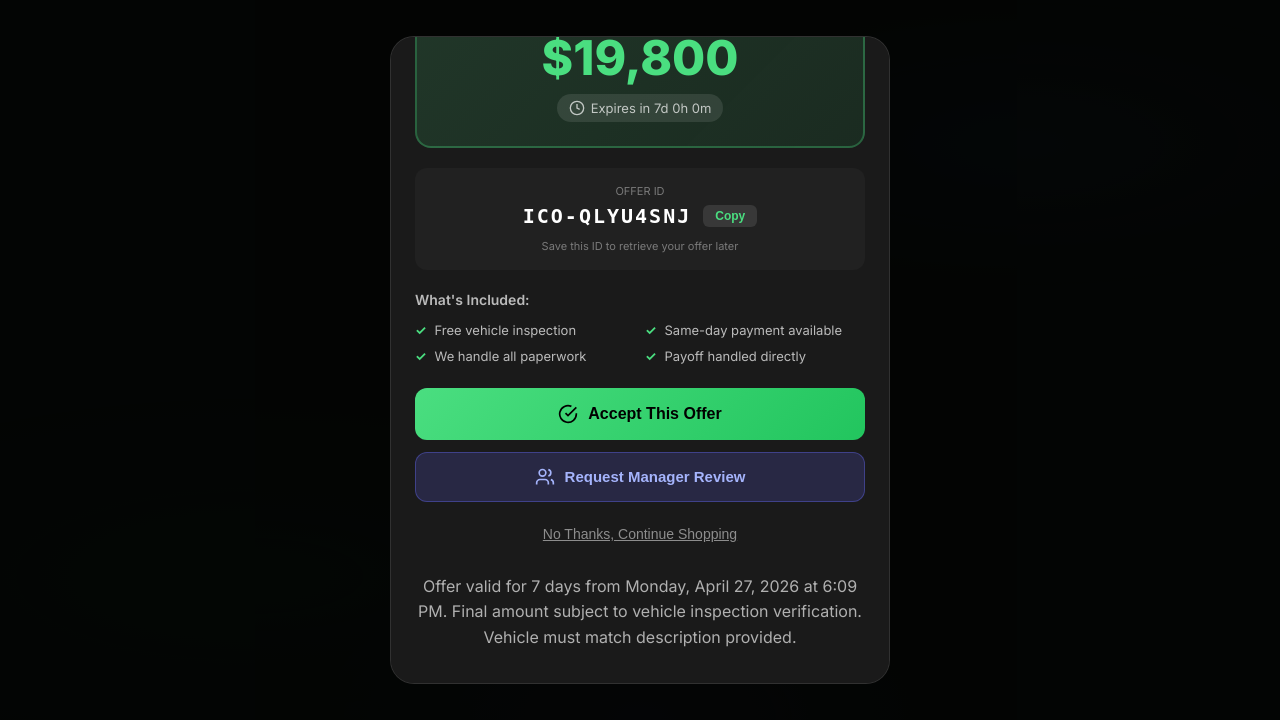
Test case: InstantCashOffer Component › Accept Flow › contact form pre-fills customer name
(page scrolled)
Click the button "Accept This Offer": (640, 414) [415,388,865,440]
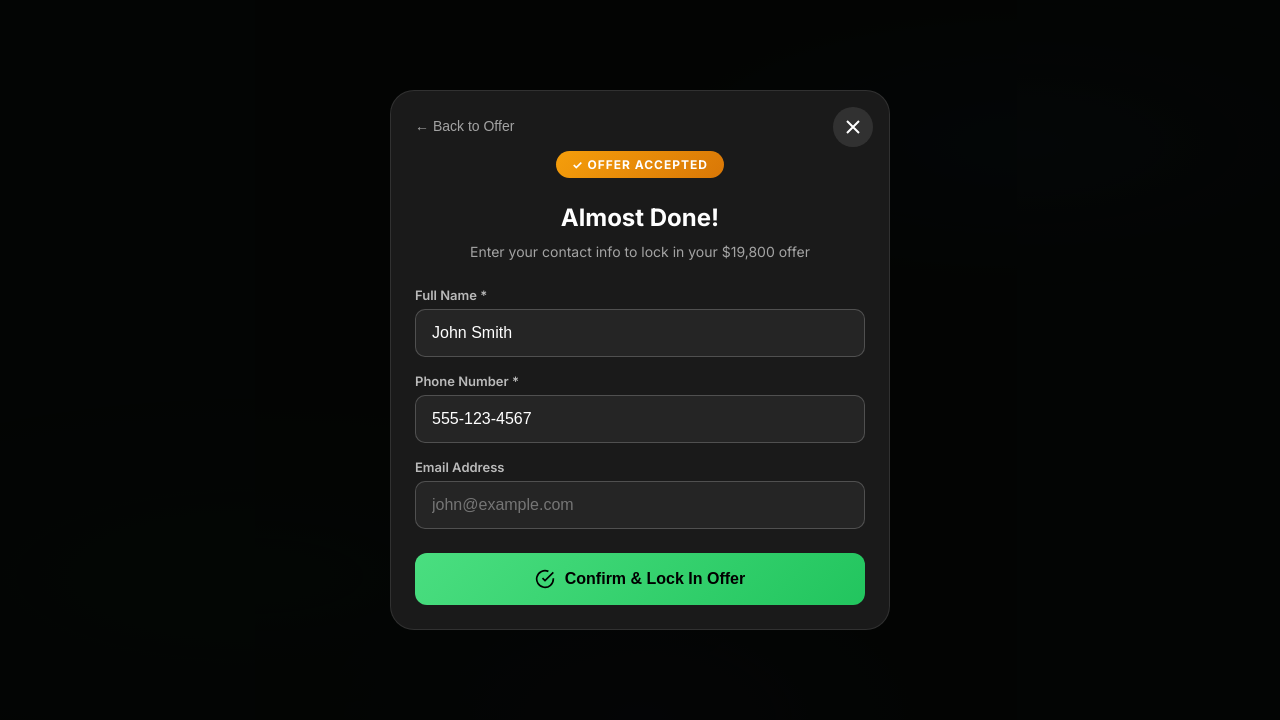
Expected: the field with placeholder "John Smith" below "Full Name *" holds "John Smith", [415,309,865,357]
